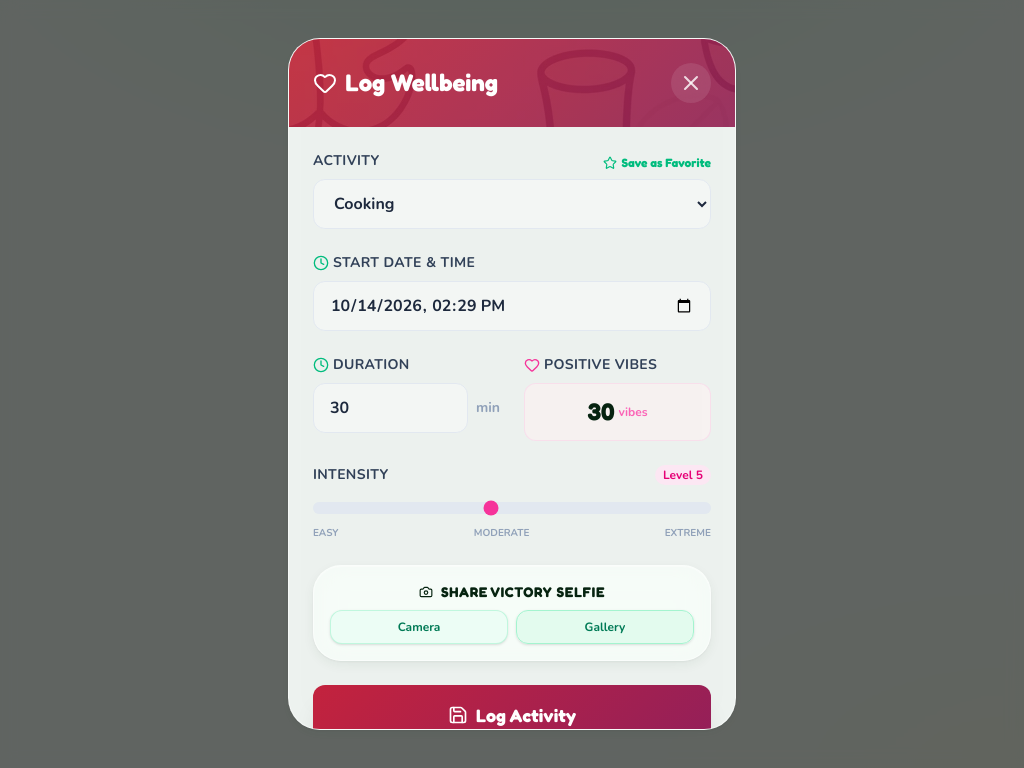
Test case: Wellbeing Activities in ActivityTrackerModal › calculates vibes correctly for Wellbeing activities
# Select specific Wellbeing activity
Select "Cooking" in the dropdown at (512, 204), box top-left (313, 179), bottom-right (711, 229)
# Change duration and intensity
Replace the text in the number field labelled "Duration" with "60" at (390, 408), box top-left (313, 383), bottom-right (468, 433)
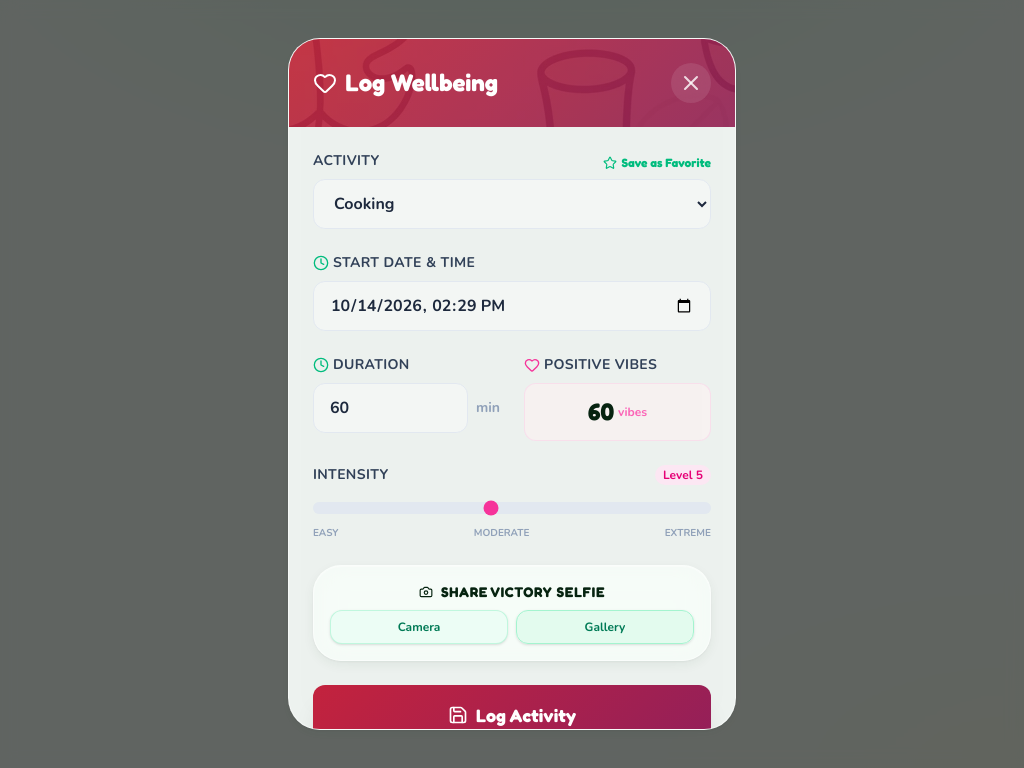
Set the slider labelled "Intensity" to "10" at (703, 508), box top-left (313, 502), bottom-right (711, 514)
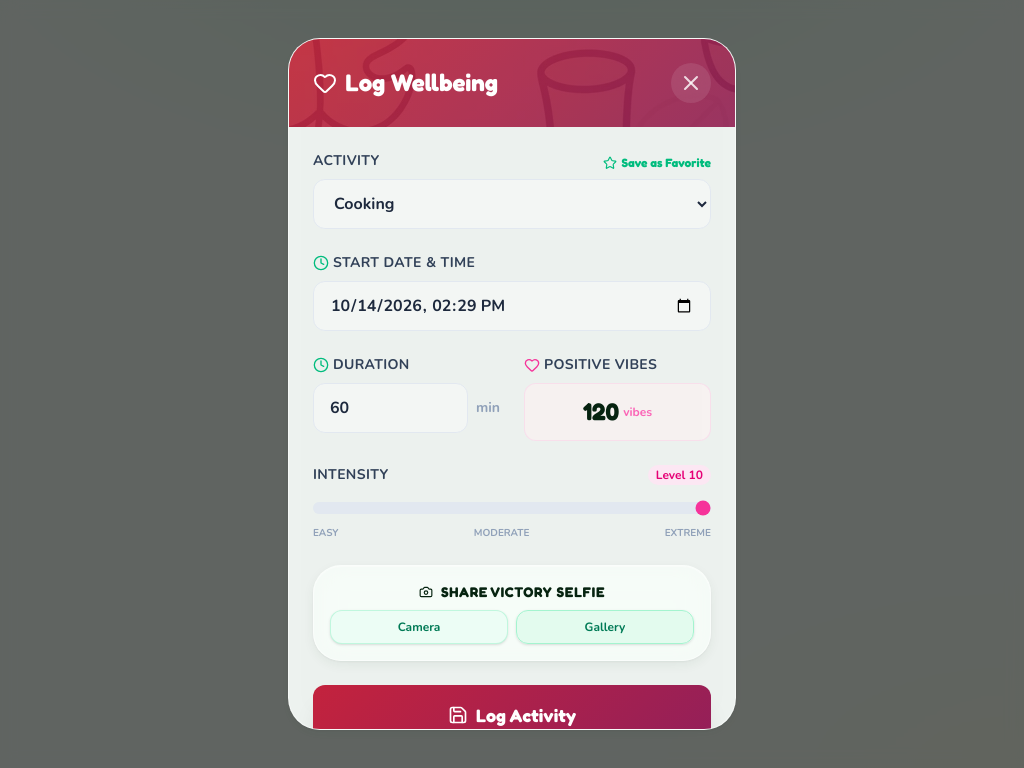
Expected: the text "vibes" is shown, top-left (623, 404), bottom-right (652, 420)
Expected: the text "120" is shown, top-left (583, 396), bottom-right (619, 428)
